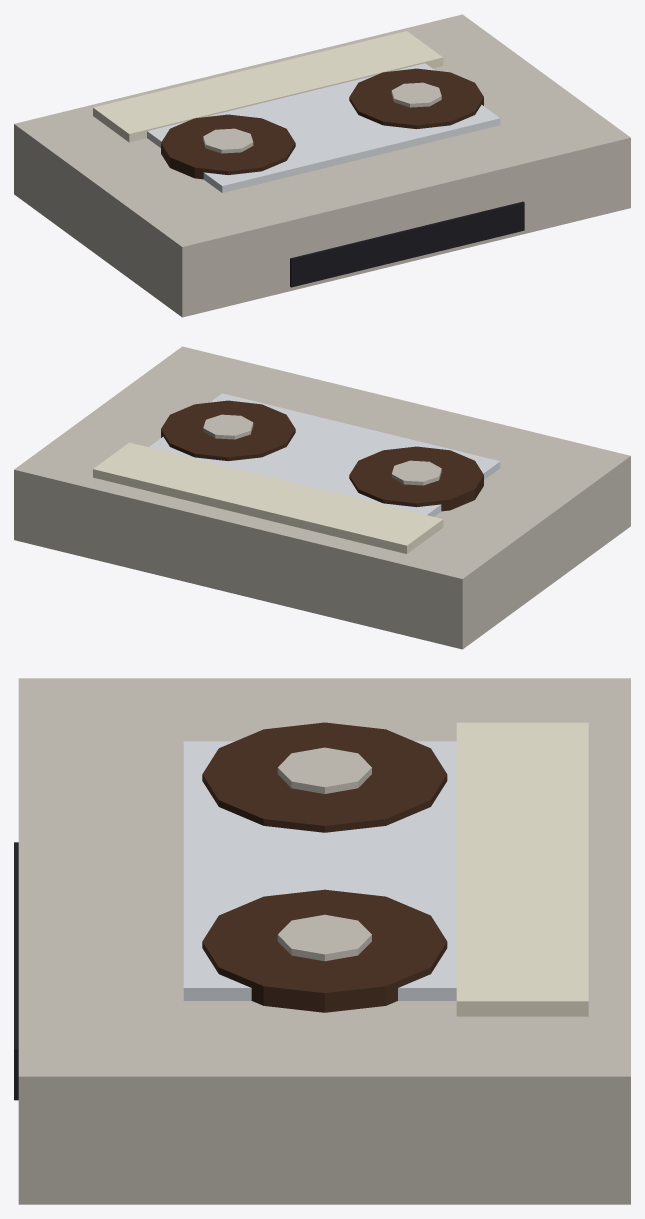
File: cassette.glb
3 views of the same model, one above another, from view 1: azimuth 30°, elevation 25°; view 2: azimuth 150°, elevation 25°; view 3: azimuth 270°, elevation 25° (orthographic). The views are drawn at different scales.
Visible parts, largest first — view 1: cassette; view 2: cassette; view 3: cassette.
Part boxes in pixels (x1,y1,x2,y2): cassette: (14,14,630,317); cassette: (14,346,630,649); cassette: (14,678,630,1204).
Size of the model in its own units: 0.1 by 0.0181 by 0.0655.
